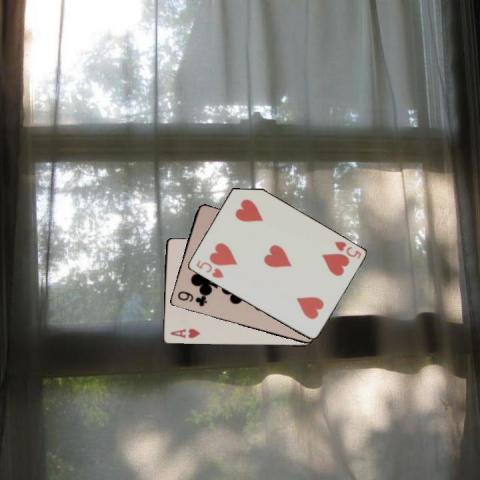5h: (192, 257, 224, 279), (331, 238, 362, 260)
9c: (174, 289, 208, 308)
Ah: (168, 326, 202, 340)
